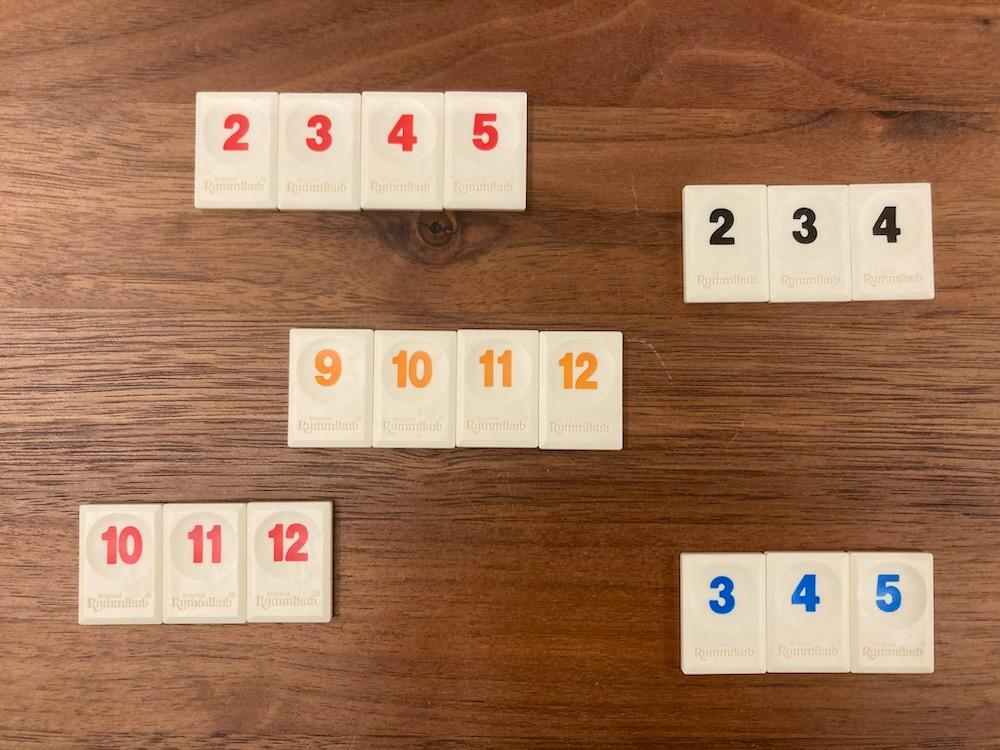black_2: (684, 188, 768, 301)
black_3: (769, 186, 852, 301)
black_4: (851, 185, 933, 299)
blue_3: (680, 553, 766, 674)
blue_4: (766, 553, 849, 672)
blue_5: (851, 553, 934, 672)
orange_10: (373, 330, 457, 447)
orange_11: (457, 333, 539, 447)
orange_12: (539, 332, 621, 449)
orange_9: (289, 328, 375, 447)
red_10: (78, 507, 162, 625)
red_11: (164, 505, 246, 623)
red_12: (246, 502, 332, 623)
red_2: (195, 93, 279, 209)
red_3: (277, 95, 361, 211)
red_4: (361, 92, 443, 211)
red_5: (443, 93, 527, 211)
